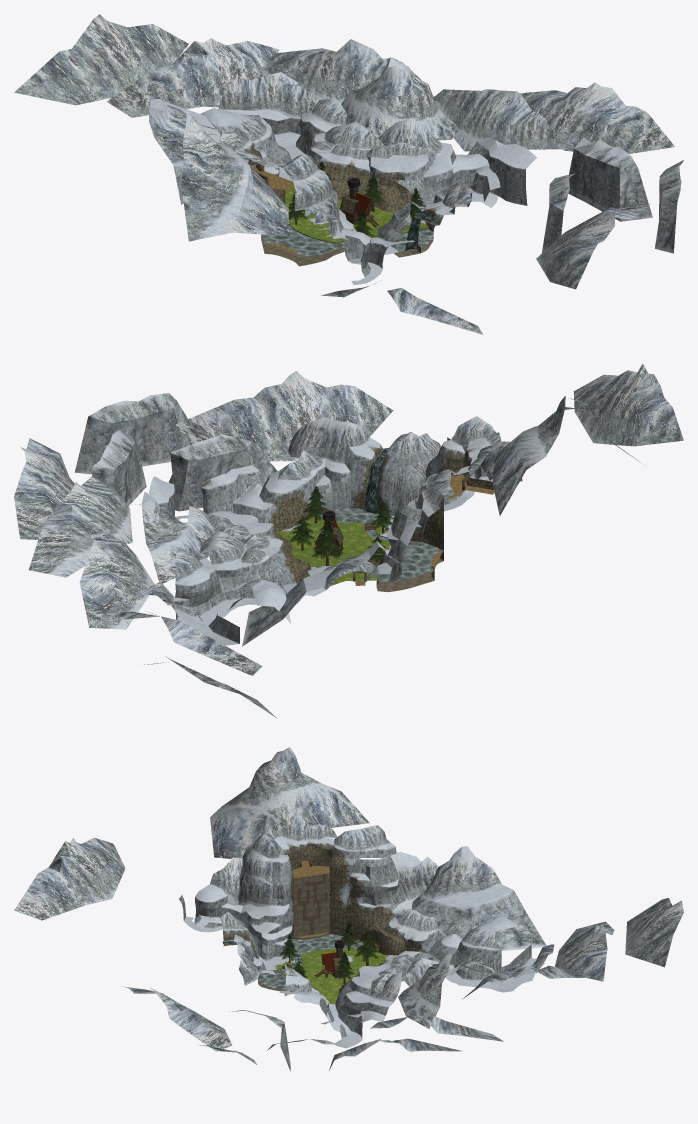
File: mountain.glb
3 views of the same model, one above another, from view 1: azimuth 30°, elevation 25°; view 2: azimuth 150°, elevation 25°; view 3: azimuth 270°, elevation 25° (orthographic). The views are drawn at different scales.
Visible parts, largest first — view 1: FrontSide_6, FrontSide_25, FrontSide_4, FrontSide_10, FrontSide_3, FrontSide_9, FrontSide_19, FrontSide_15, FrontSide_27, FrontSide_21, FrontSide_8; view 2: FrontSide_6, FrontSide_25, FrontSide_4, FrontSide_10, FrontSide_3, FrontSide_19, FrontSide_15, FrontSide_9, FrontSide_26, FrontSide_28, FrontSide_27, FrontSide_8 (+2 smaller); view 3: FrontSide_6, FrontSide_25, FrontSide_4, FrontSide_3, FrontSide_10, FrontSide_21, FrontSide_19, FrontSide_28, FrontSide_27, FrontSide_15, FrontSide_9, FrontSide_26 (+1 smaller).
Boxes of the visible parts, x1=… form: FrontSide_6: x1=14, y1=14, x2=674, y2=334; FrontSide_25: x1=173, y1=114, x2=683, y2=277; FrontSide_4: x1=149, y1=57, x2=537, y2=284; FrontSide_10: x1=263, y1=125, x2=526, y2=262; FrontSide_3: x1=248, y1=149, x2=435, y2=254; FrontSide_9: x1=262, y1=225, x2=433, y2=256; FrontSide_19: x1=285, y1=186, x2=428, y2=242; FrontSide_15: x1=288, y1=161, x2=425, y2=236; FrontSide_27: x1=244, y1=142, x2=445, y2=224; FrontSide_21: x1=261, y1=216, x2=439, y2=266; FrontSide_8: x1=405, y1=212, x2=440, y2=251; FrontSide_6: x1=14, y1=363, x2=683, y2=717; FrontSide_25: x1=74, y1=393, x2=522, y2=646; FrontSide_4: x1=141, y1=437, x2=521, y2=645; FrontSide_10: x1=169, y1=449, x2=482, y2=635; FrontSide_3: x1=272, y1=448, x2=493, y2=586; FrontSide_19: x1=275, y1=516, x2=390, y2=585; FrontSide_15: x1=289, y1=486, x2=393, y2=561; FrontSide_9: x1=318, y1=508, x2=443, y2=582; FrontSide_26: x1=265, y1=456, x2=450, y2=583; FrontSide_28: x1=207, y1=460, x2=431, y2=609; FrontSide_27: x1=201, y1=442, x2=480, y2=568; FrontSide_8: x1=364, y1=448, x2=388, y2=512; FrontSide_6: x1=14, y1=747, x2=683, y2=1070; FrontSide_25: x1=179, y1=846, x2=546, y2=1071; FrontSide_4: x1=184, y1=836, x2=544, y2=1048; FrontSide_3: x1=223, y1=843, x2=421, y2=992; FrontSide_10: x1=182, y1=858, x2=531, y2=1032; FrontSide_21: x1=223, y1=874, x2=329, y2=991; FrontSide_19: x1=279, y1=948, x2=388, y2=1003; FrontSide_28: x1=195, y1=863, x2=501, y2=974; FrontSide_27: x1=223, y1=840, x2=421, y2=1004; FrontSide_15: x1=279, y1=922, x2=380, y2=984; FrontSide_9: x1=258, y1=933, x2=363, y2=989; FrontSide_26: x1=247, y1=858, x2=428, y2=992.
Size of what is drawn, in the model's own units: 2732 by 983 by 3564.
Materials: 32 (32 with a texture image).
